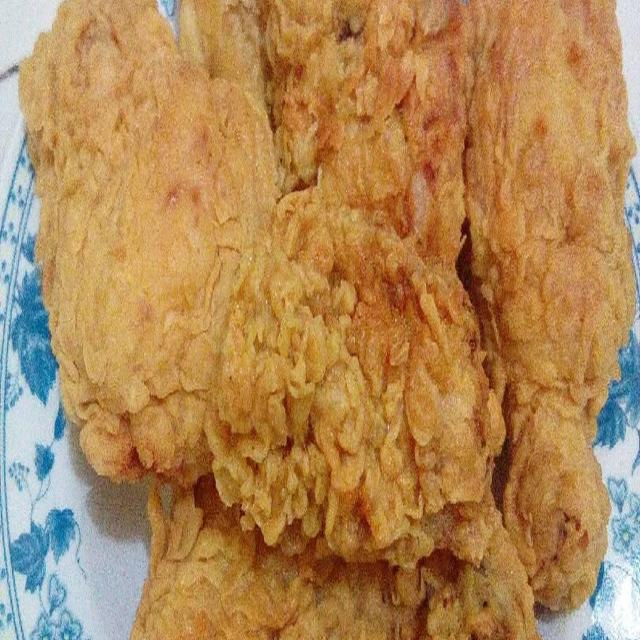Chicken -Fried Chicken-: (19, 0, 331, 483), (217, 35, 488, 566), (470, 12, 637, 611)
